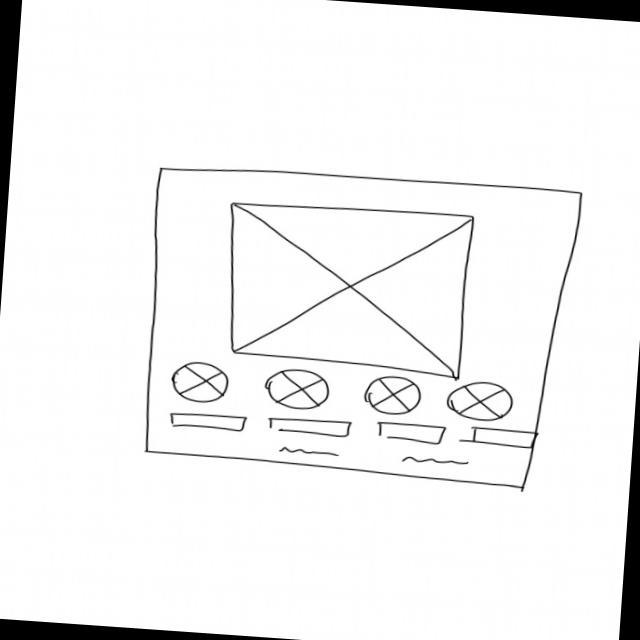container: (134, 159, 584, 492)
image: (220, 196, 476, 378), (444, 378, 514, 424), (262, 366, 331, 412), (362, 372, 424, 417), (170, 360, 230, 404)
input: (264, 413, 354, 438), (376, 419, 448, 446), (168, 410, 248, 433), (465, 426, 538, 448)
text: (396, 454, 472, 468), (276, 443, 342, 458)
